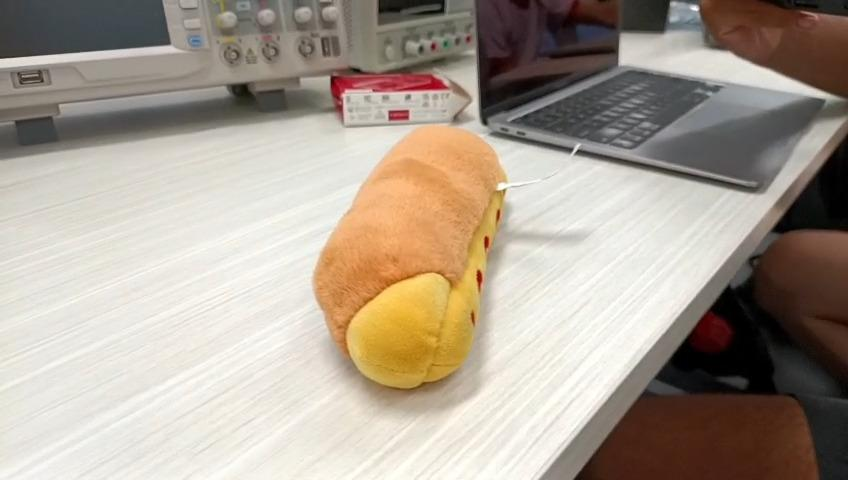hotdog: (313, 125, 507, 390)
